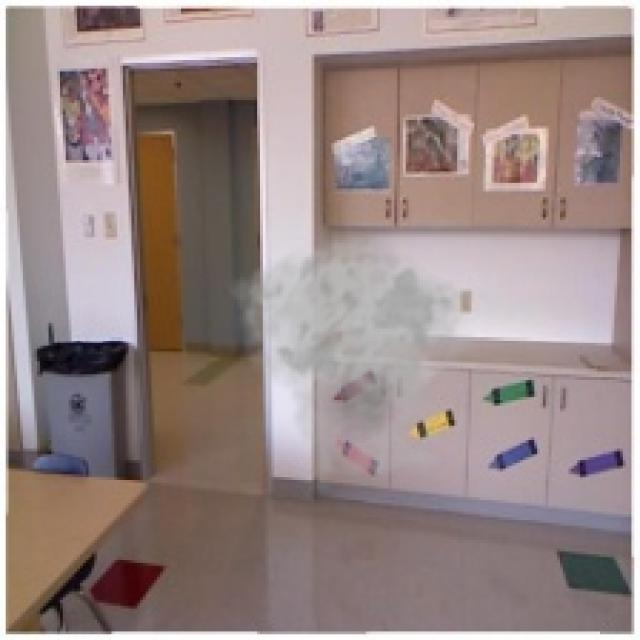Smoke: (228, 234, 488, 497)
